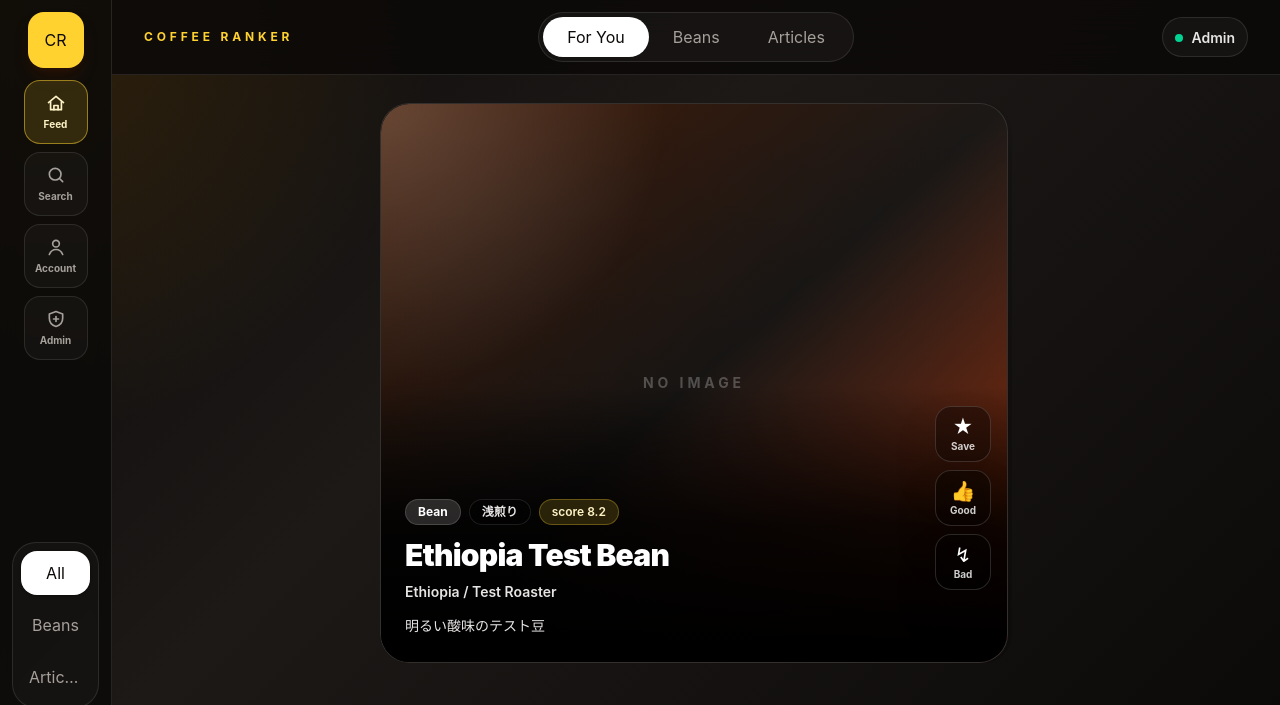
Test case: App integration › adminユーザーはAdmin画面を開き、管理データ取得が走る
The image size is (1280, 705).
Click the button "Admin" at (56, 328), box x1=24 y1=296 x2=88 y2=360
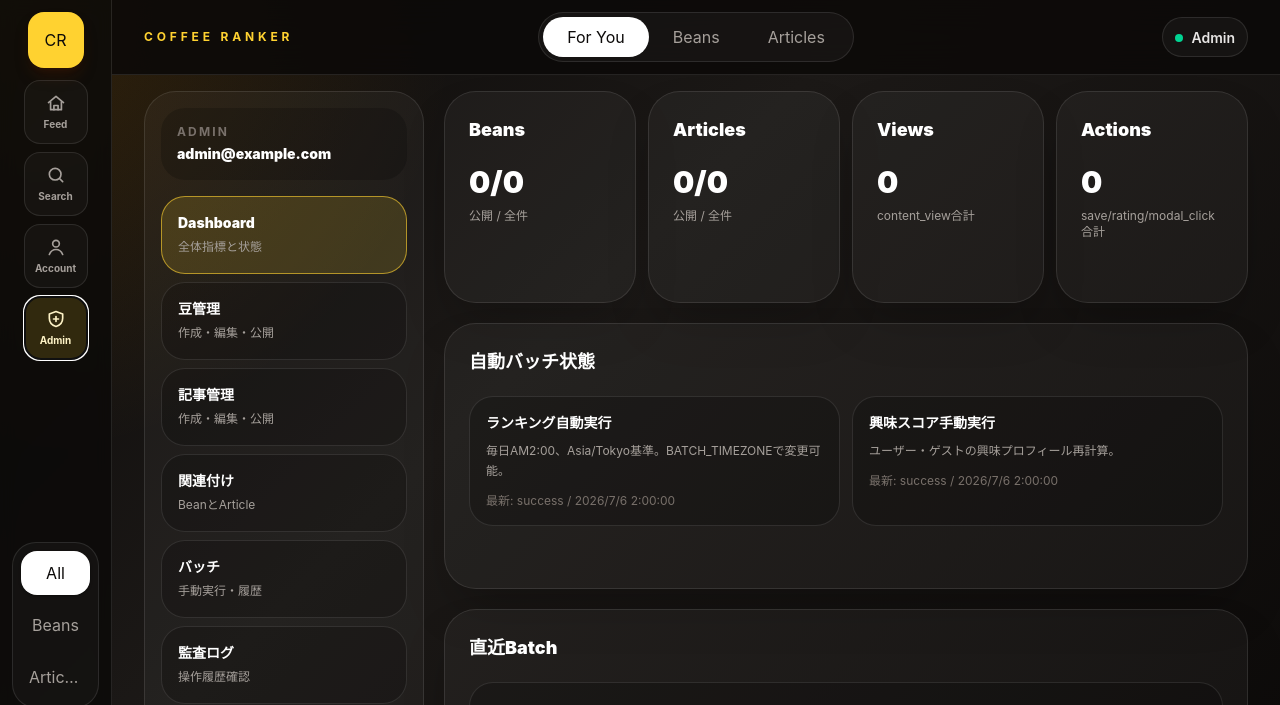
Check: the heading "自動バッチ状態" is shown, box x1=469 y1=348 x2=595 y2=376
